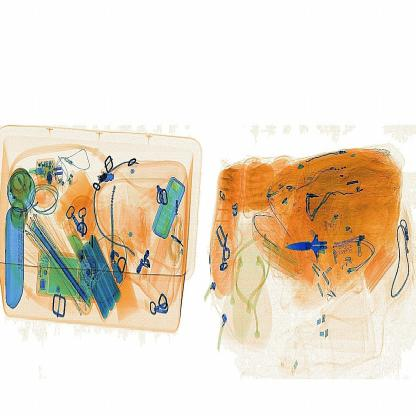gun: (284, 219, 348, 270)
